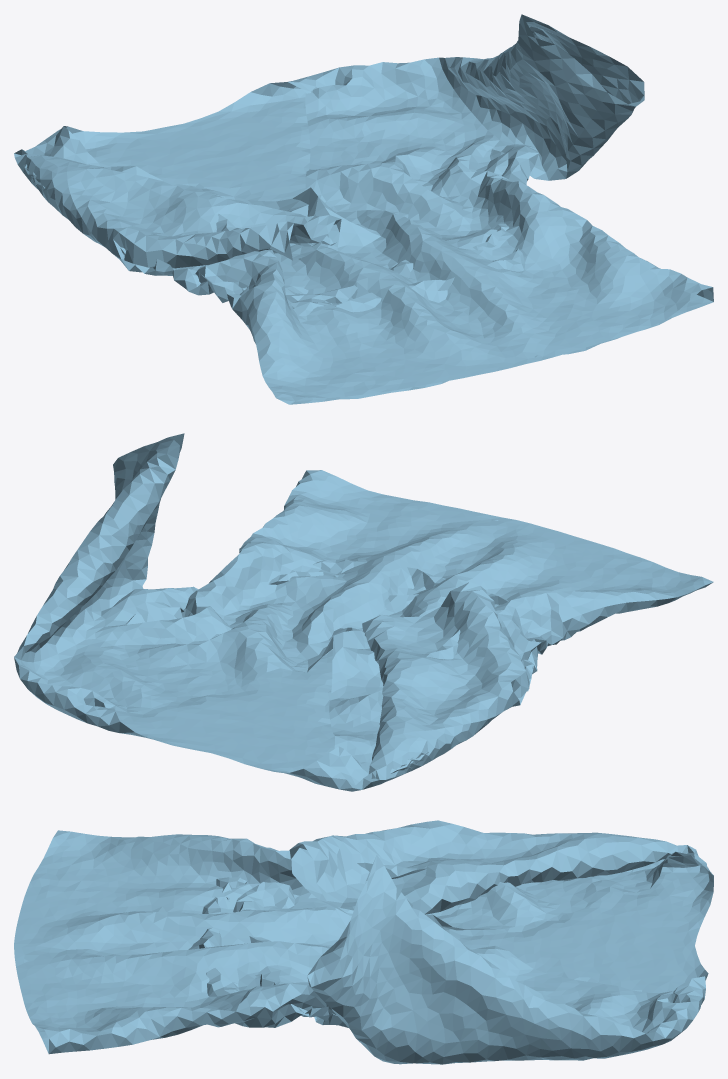
The model's file is frame_11.glb.
3 views of the same model, one above another, from view 1: azimuth 30°, elevation 25°; view 2: azimuth 150°, elevation 25°; view 3: azimuth 270°, elevation 25° (orthographic). The views are drawn at different scales.
Visible parts, largest first — view 1: frame_11.obj; view 2: frame_11.obj; view 3: frame_11.obj.
Boxes of the visible parts, bbox=[...] form: frame_11.obj: bbox=[14, 14, 713, 404]; frame_11.obj: bbox=[14, 433, 713, 791]; frame_11.obj: bbox=[14, 820, 713, 1064].
Size of the model in its own units: 1.34 by 0.4737 by 1.58.
